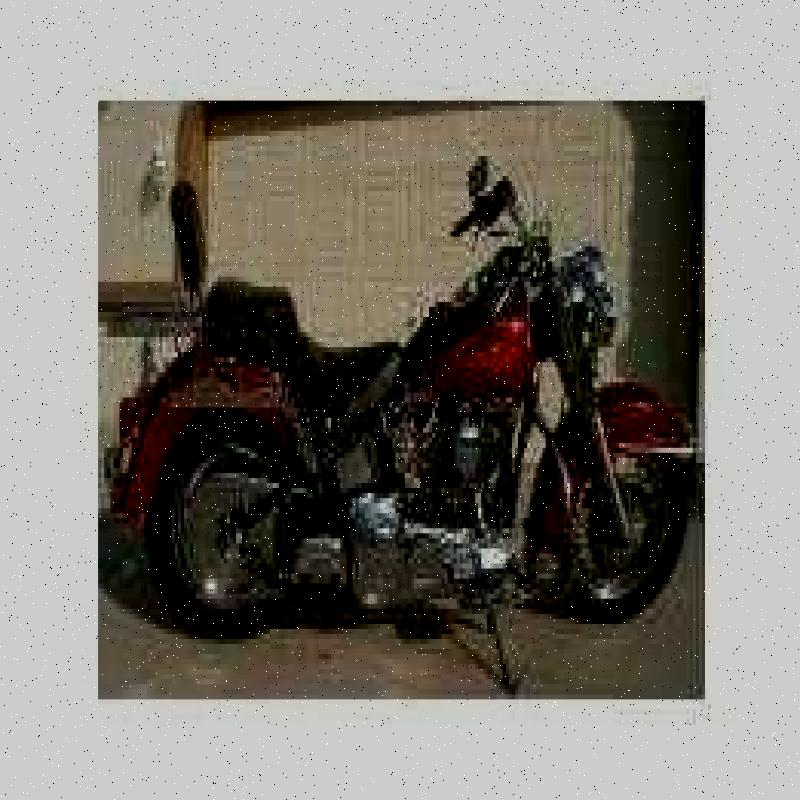bike: (107, 96, 697, 638)
